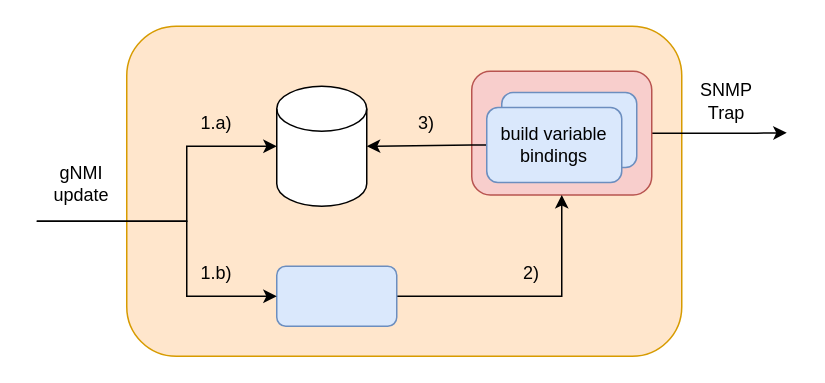
Image size: 825x383. Some labels were removed from this diagram. Each missing label, with the box of its shape:
cache: (275, 85, 367, 206)
trap trigger: (275, 265, 397, 326)
